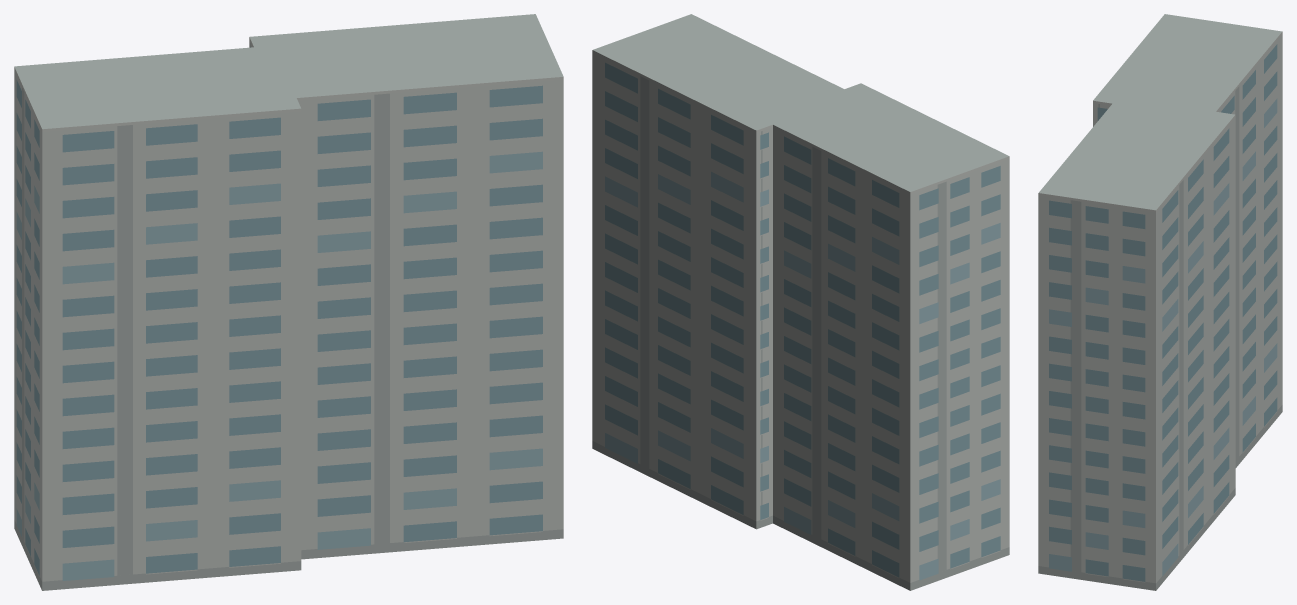
File: residential-f686bc6c-1e9c-432f-a7ef-2f1a2fbb52bd.glb
3 views of the same model, side by side, from view 1: azimuth 30°, elevation 25°; view 2: azimuth 150°, elevation 25°; view 3: azimuth 270°, elevation 25° (orthographic). The views are drawn at different scales.
Parts seen in each view (by area): view 1: residential-f686bc6c-1e9c-432f-a7ef-2f1a2fbb52bd.tmp; view 2: residential-f686bc6c-1e9c-432f-a7ef-2f1a2fbb52bd.tmp; view 3: residential-f686bc6c-1e9c-432f-a7ef-2f1a2fbb52bd.tmp.
Part boxes in pixels (<box>): residential-f686bc6c-1e9c-432f-a7ef-2f1a2fbb52bd.tmp: <box>14,14,563,590</box>; residential-f686bc6c-1e9c-432f-a7ef-2f1a2fbb52bd.tmp: <box>592,14,1009,590</box>; residential-f686bc6c-1e9c-432f-a7ef-2f1a2fbb52bd.tmp: <box>1038,14,1282,590</box>.
Bounding box in the file's own units: 43.17 × 39 × 22.68.
